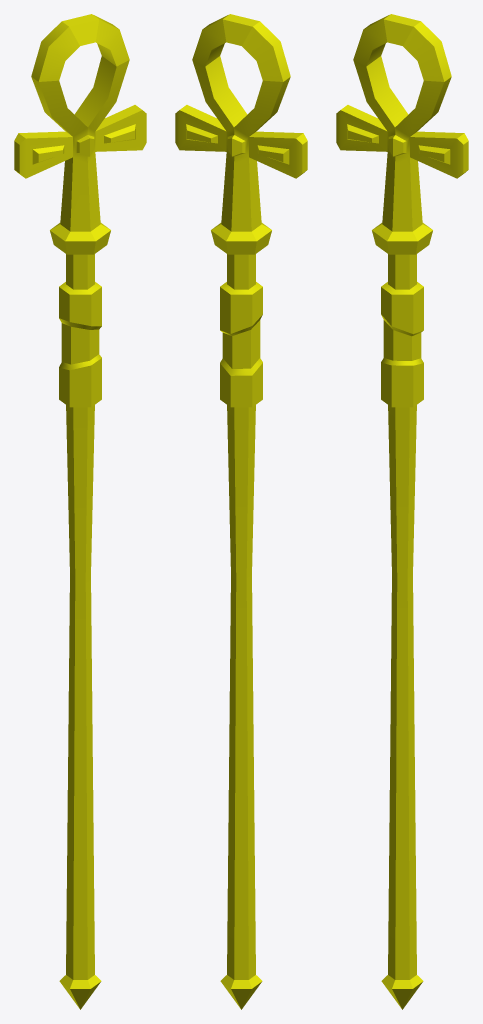
The model's file is SM_Wep_AncientQueen_01.glb.
3 views of the same model, side by side, from view 1: azimuth 30°, elevation 25°; view 2: azimuth 150°, elevation 25°; view 3: azimuth 330°, elevation 25° (orthographic).
Visible parts, largest first — view 1: SM_Wep_AncientQueen_01; view 2: SM_Wep_AncientQueen_01; view 3: SM_Wep_AncientQueen_01.
Part boxes in pixels (bbox=[...]): SM_Wep_AncientQueen_01: bbox=[14, 14, 146, 1009]; SM_Wep_AncientQueen_01: bbox=[175, 14, 307, 1009]; SM_Wep_AncientQueen_01: bbox=[336, 14, 468, 1009].
Size of the model in its own units: 0.2674 by 1.99 by 0.1118.
